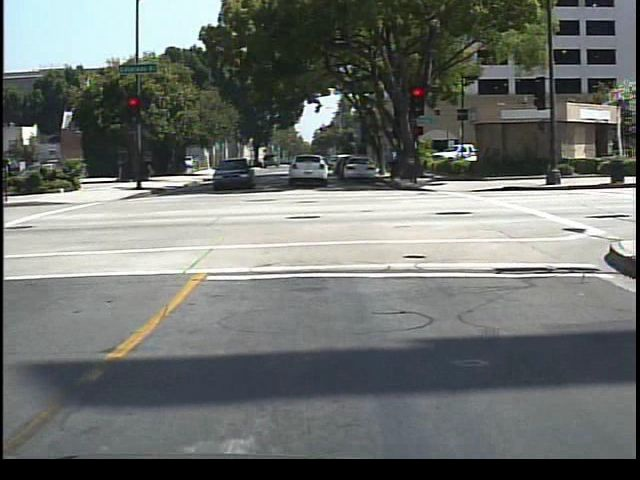person: (384, 142, 403, 184)
